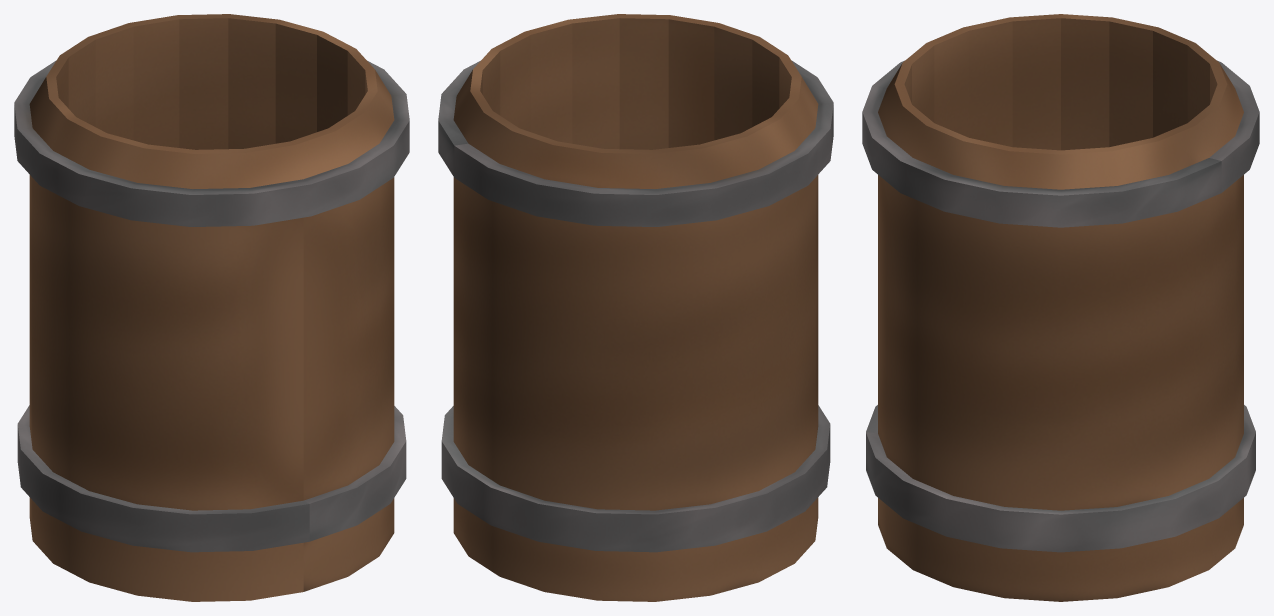
File: Barrel.fbx
The picture shows the model from 3 angles, left to right: view 1: azimuth 30°, elevation 25°; view 2: azimuth 150°, elevation 25°; view 3: azimuth 270°, elevation 25°; orthographic projection.
Parts seen in each view (by area): view 1: pCylinder1; view 2: pCylinder1; view 3: pCylinder1.
Boxes of the visible parts, bbox=[...] form: pCylinder1: bbox=[14, 14, 409, 601]; pCylinder1: bbox=[438, 14, 833, 601]; pCylinder1: bbox=[862, 14, 1259, 601].
Size of the model in its own units: 2.17 by 2.65 by 2.17.
